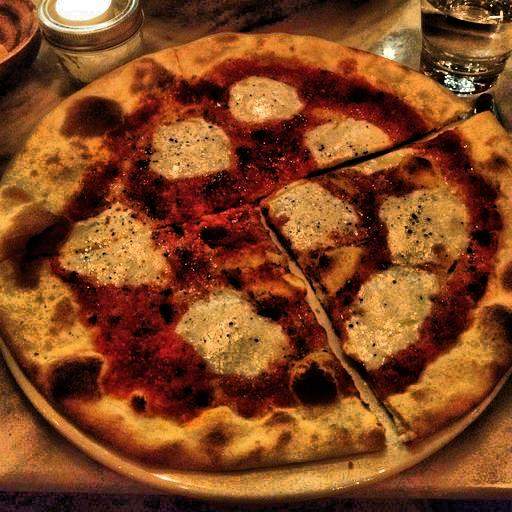pizza: (5, 28, 512, 469)
